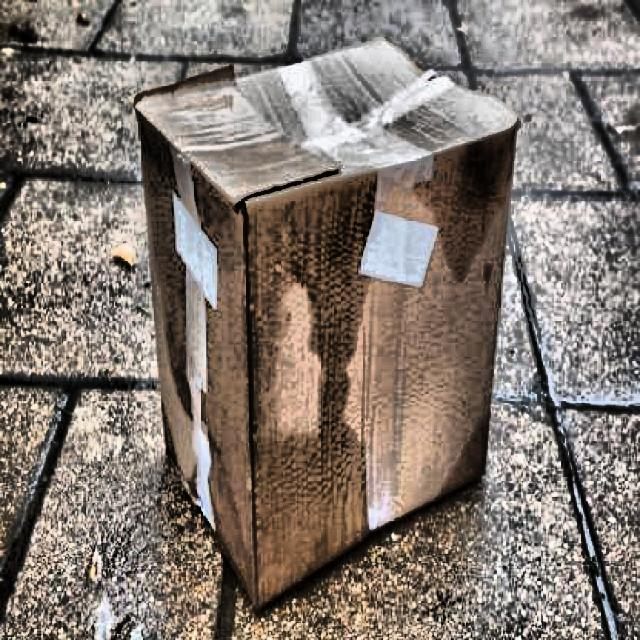Cardbox: (106, 12, 515, 628)
